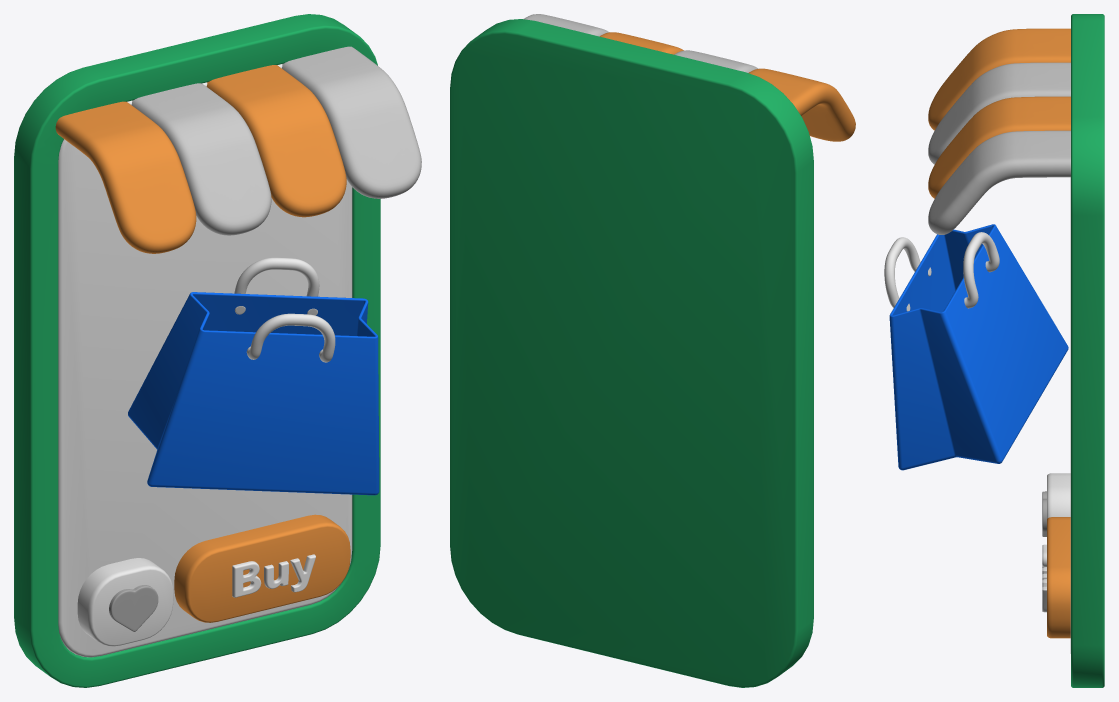
Rendered from online-store-animated-3d-icon-1307039921776.glb.
3 renders of one model, left to right at view 1: azimuth 30°, elevation 25°; view 2: azimuth 150°, elevation 25°; view 3: azimuth 270°, elevation 25°, orthographic. The views are drawn at different scales.
Visible parts, largest first — view 1: Screen.001, Phone Base, Bag, Canopy 1.001, Canopy 2.001, Buy Button.001, Love Button.001, Handle.001, Text Buy, Love Symbol; view 2: Phone Base, Canopy 1.001, Canopy 2.001; view 3: Bag, Phone Base, Canopy 2.001, Canopy 1.001, Buy Button.001, Handle.001, Love Button.001, Screen.001.
Part boxes in pixels (<box>): Screen.001: <box>58,64,352,657</box>; Phone Base: <box>14,14,380,687</box>; Bag: <box>128,292,379,495</box>; Canopy 1.001: <box>55,65,346,253</box>; Canopy 2.001: <box>131,46,421,235</box>; Buy Button.001: <box>174,514,350,622</box>; Love Button.001: <box>77,558,173,646</box>; Handle.001: <box>234,257,335,362</box>; Text Buy: <box>232,554,315,597</box>; Love Symbol: <box>109,585,158,631</box>; Phone Base: <box>450,19,813,687</box>; Canopy 1.001: <box>599,32,855,141</box>; Canopy 2.001: <box>523,14,758,72</box>; Bag: <box>889,224,1068,470</box>; Phone Base: <box>1071,14,1104,687</box>; Canopy 2.001: <box>928,62,1070,234</box>; Canopy 1.001: <box>928,28,1070,198</box>; Buy Button.001: <box>1047,517,1070,638</box>; Handle.001: <box>884,232,999,311</box>; Love Button.001: <box>1047,473,1070,518</box>; Screen.001: <box>1070,177,1070,653</box>.
Bounding box in the file's own units: 1.4 × 2.32 × 0.8222.
